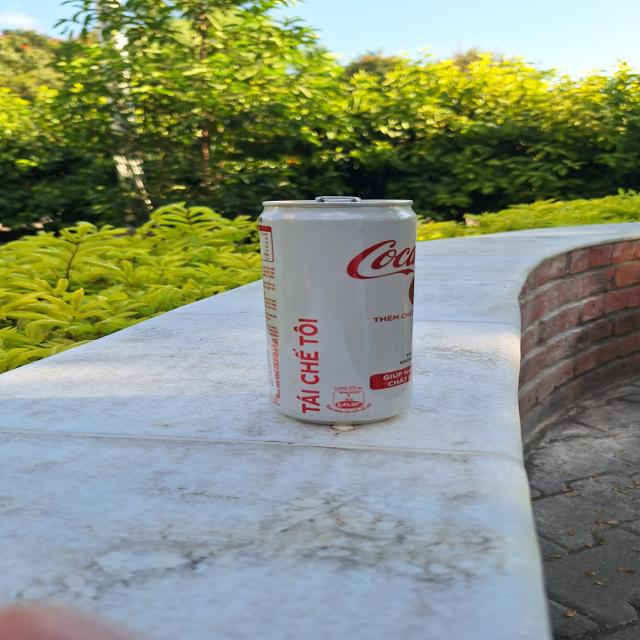Coca Cola Plus: (251, 198, 425, 423)
